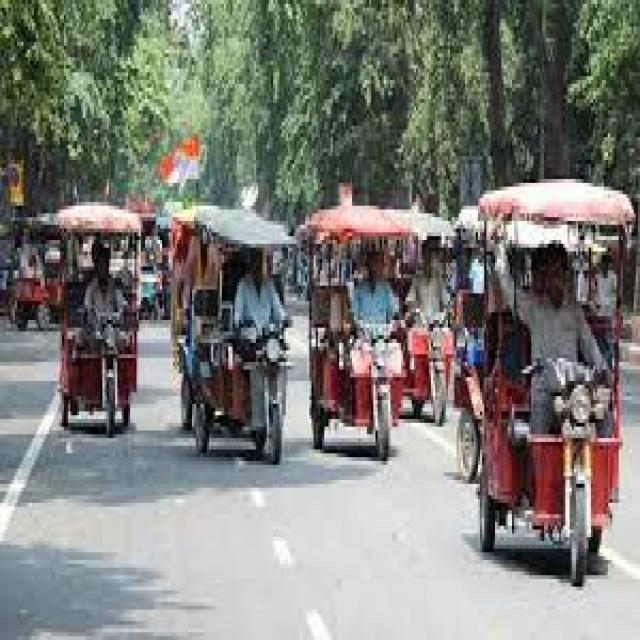Toto: (478, 153, 630, 582), (171, 201, 291, 477), (43, 216, 148, 453), (307, 222, 402, 455)
